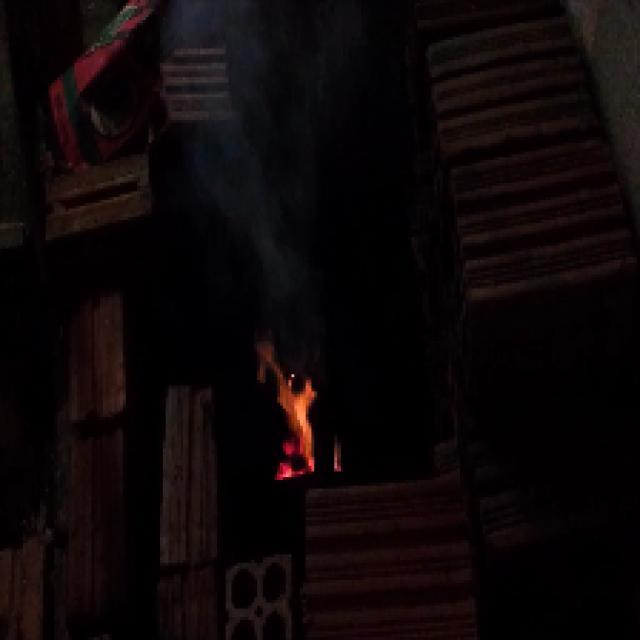Fire: (257, 376, 330, 479)
